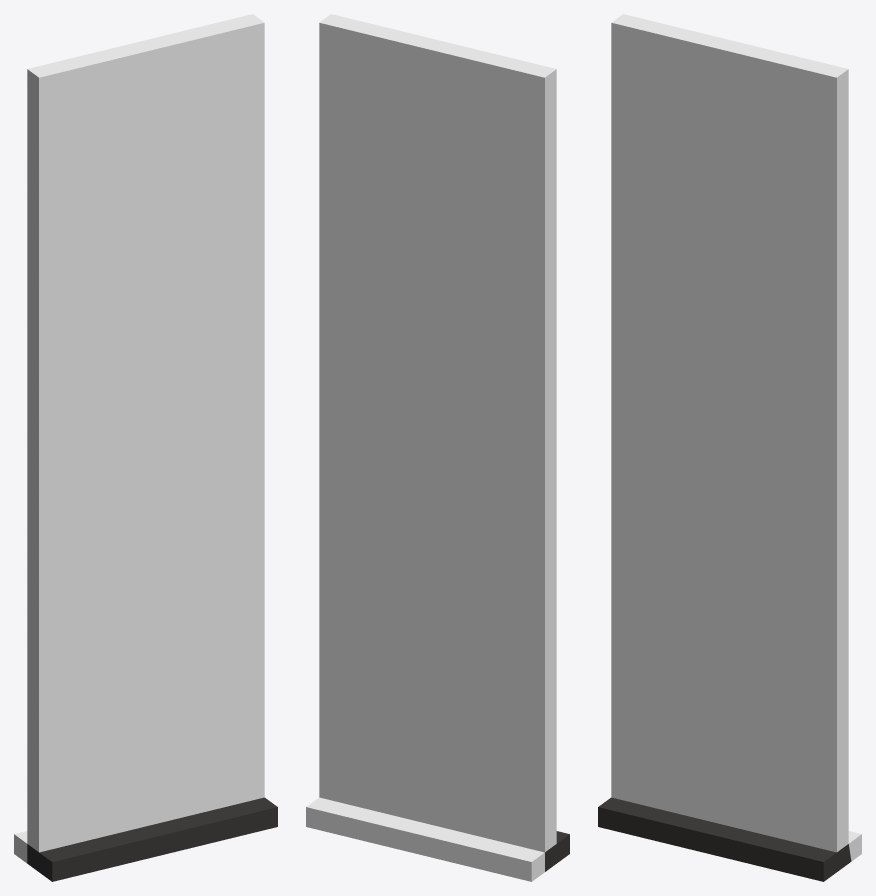
Rendered from 11_wall.FBX.
The picture shows the model from 3 angles, left to right: view 1: azimuth 30°, elevation 25°; view 2: azimuth 150°, elevation 25°; view 3: azimuth 330°, elevation 25°; orthographic projection.
Parts seen in each view (by area): view 1: 11_wall; view 2: 11_wall; view 3: 11_wall.
Part boxes in pixels (box(x1,y1,x2,y2)): 11_wall: box(14, 14, 277, 881); 11_wall: box(306, 14, 569, 881); 11_wall: box(598, 14, 861, 881).
Bounding box in the file's own units: 128 × 432 × 37.56.
